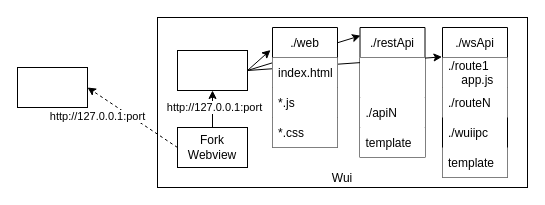
Some shapes in this 545 by 205 pixel diagram are drawn without their labels. Each missing label, with the centre of its shape:
./api1 app.js: pixel 392 77
Local Server: pixel 212 70
Webview: pixel 52 87
